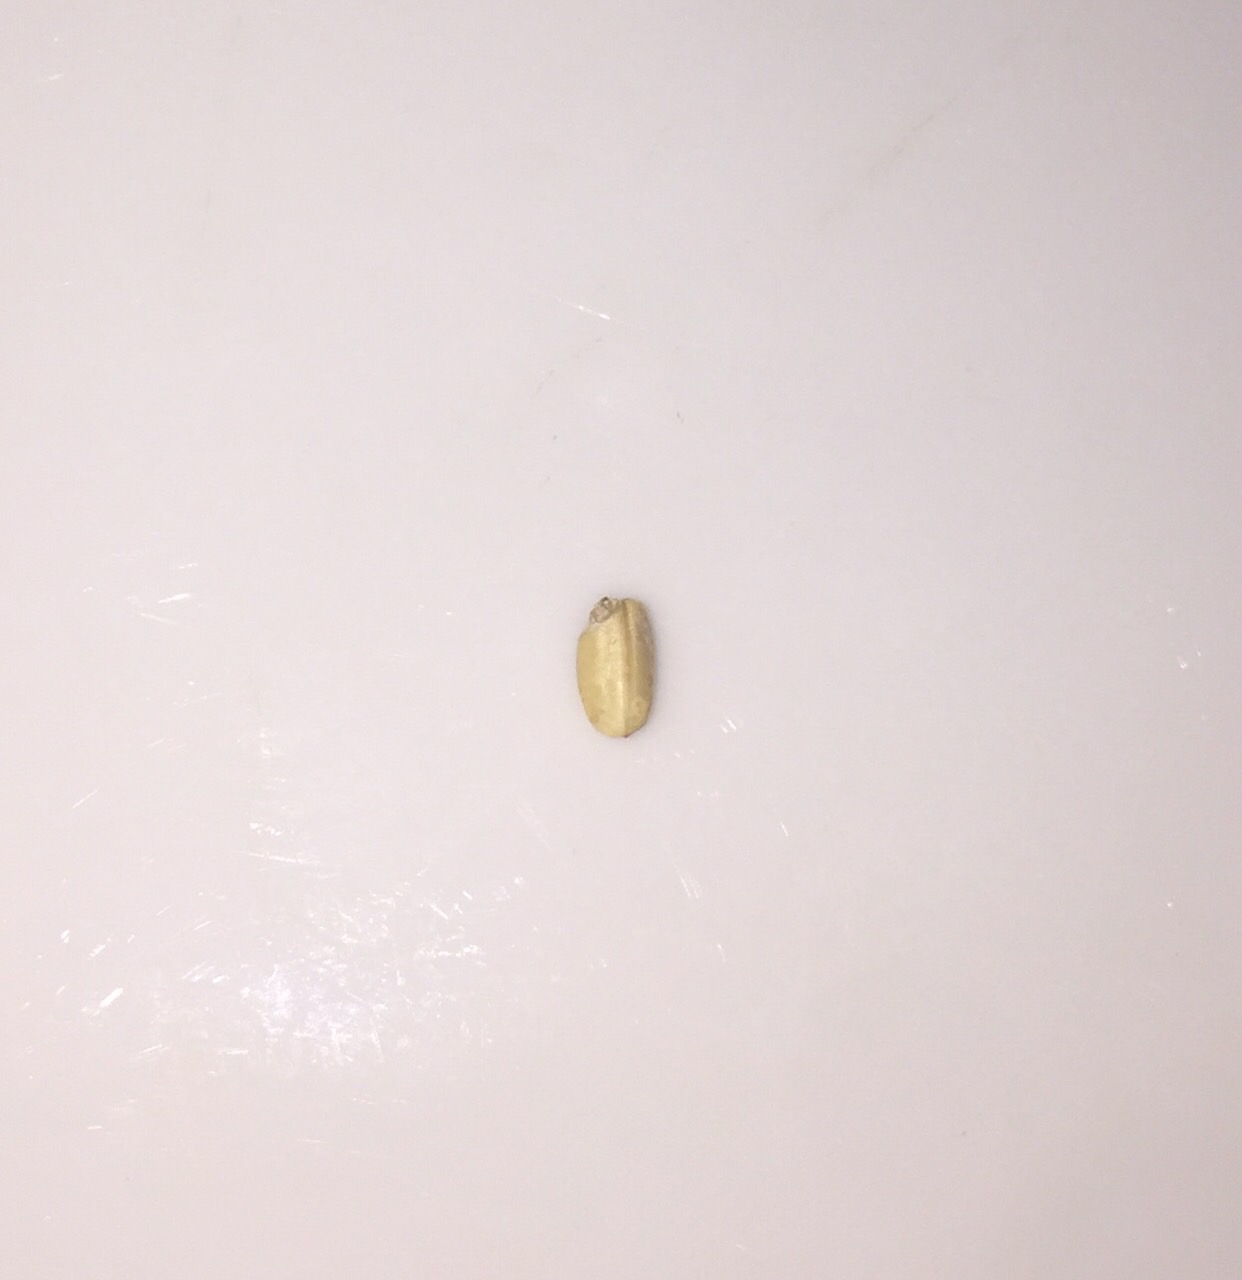Gao Lut Bac: (564, 587, 680, 750)
